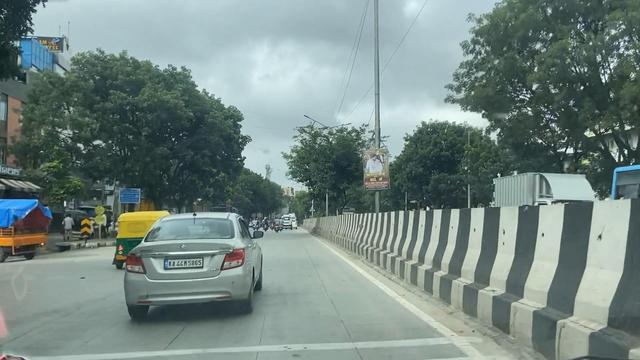LMV: (115, 213, 268, 315)
